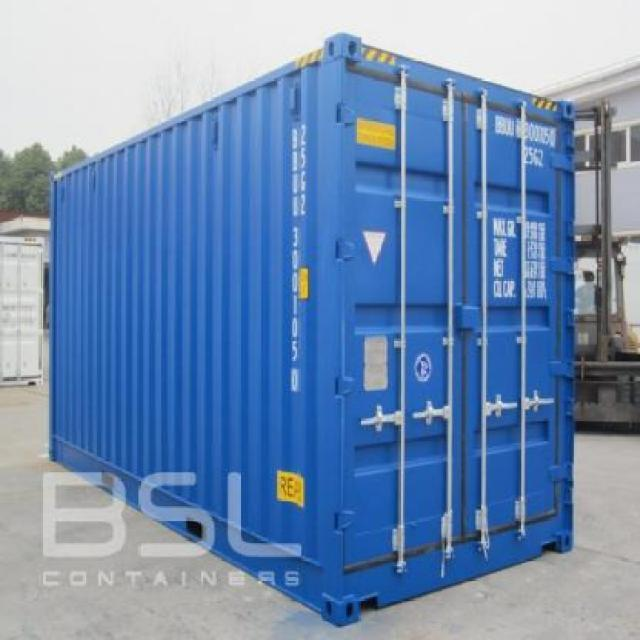ISO: (523, 147, 547, 171)
container_number: (488, 110, 558, 144)
